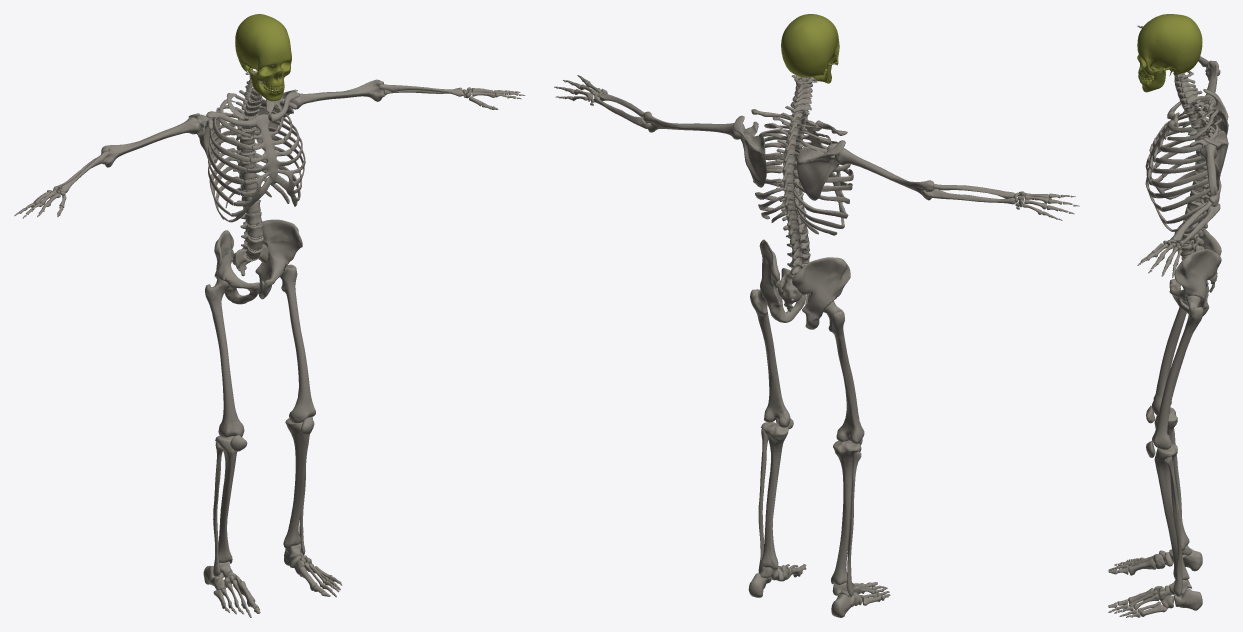
File: Esqueleto.fbx
3 views of the same model, side by side, from view 1: azimuth 30°, elevation 25°; view 2: azimuth 150°, elevation 25°; view 3: azimuth 270°, elevation 25° (orthographic). The views are drawn at different scales.
Visible parts, largest first — view 1: Skeletal, Skeletal_Cranium; view 2: Skeletal, Skeletal_Cranium; view 3: Skeletal, Skeletal_Cranium.
Part boxes in pixels (x1=…): Skeletal: x1=14, y1=69, x2=525, y2=617; Skeletal_Cranium: x1=235, y1=14, x2=291, y2=101; Skeletal: x1=554, y1=75, x2=1079, y2=617; Skeletal_Cranium: x1=781, y1=14, x2=839, y2=83; Skeletal: x1=1108, y1=25, x2=1228, y2=617; Skeletal_Cranium: x1=1137, y1=14, x2=1202, y2=92.
Bounding box in the file's own units: 171 × 183 × 34.75.
